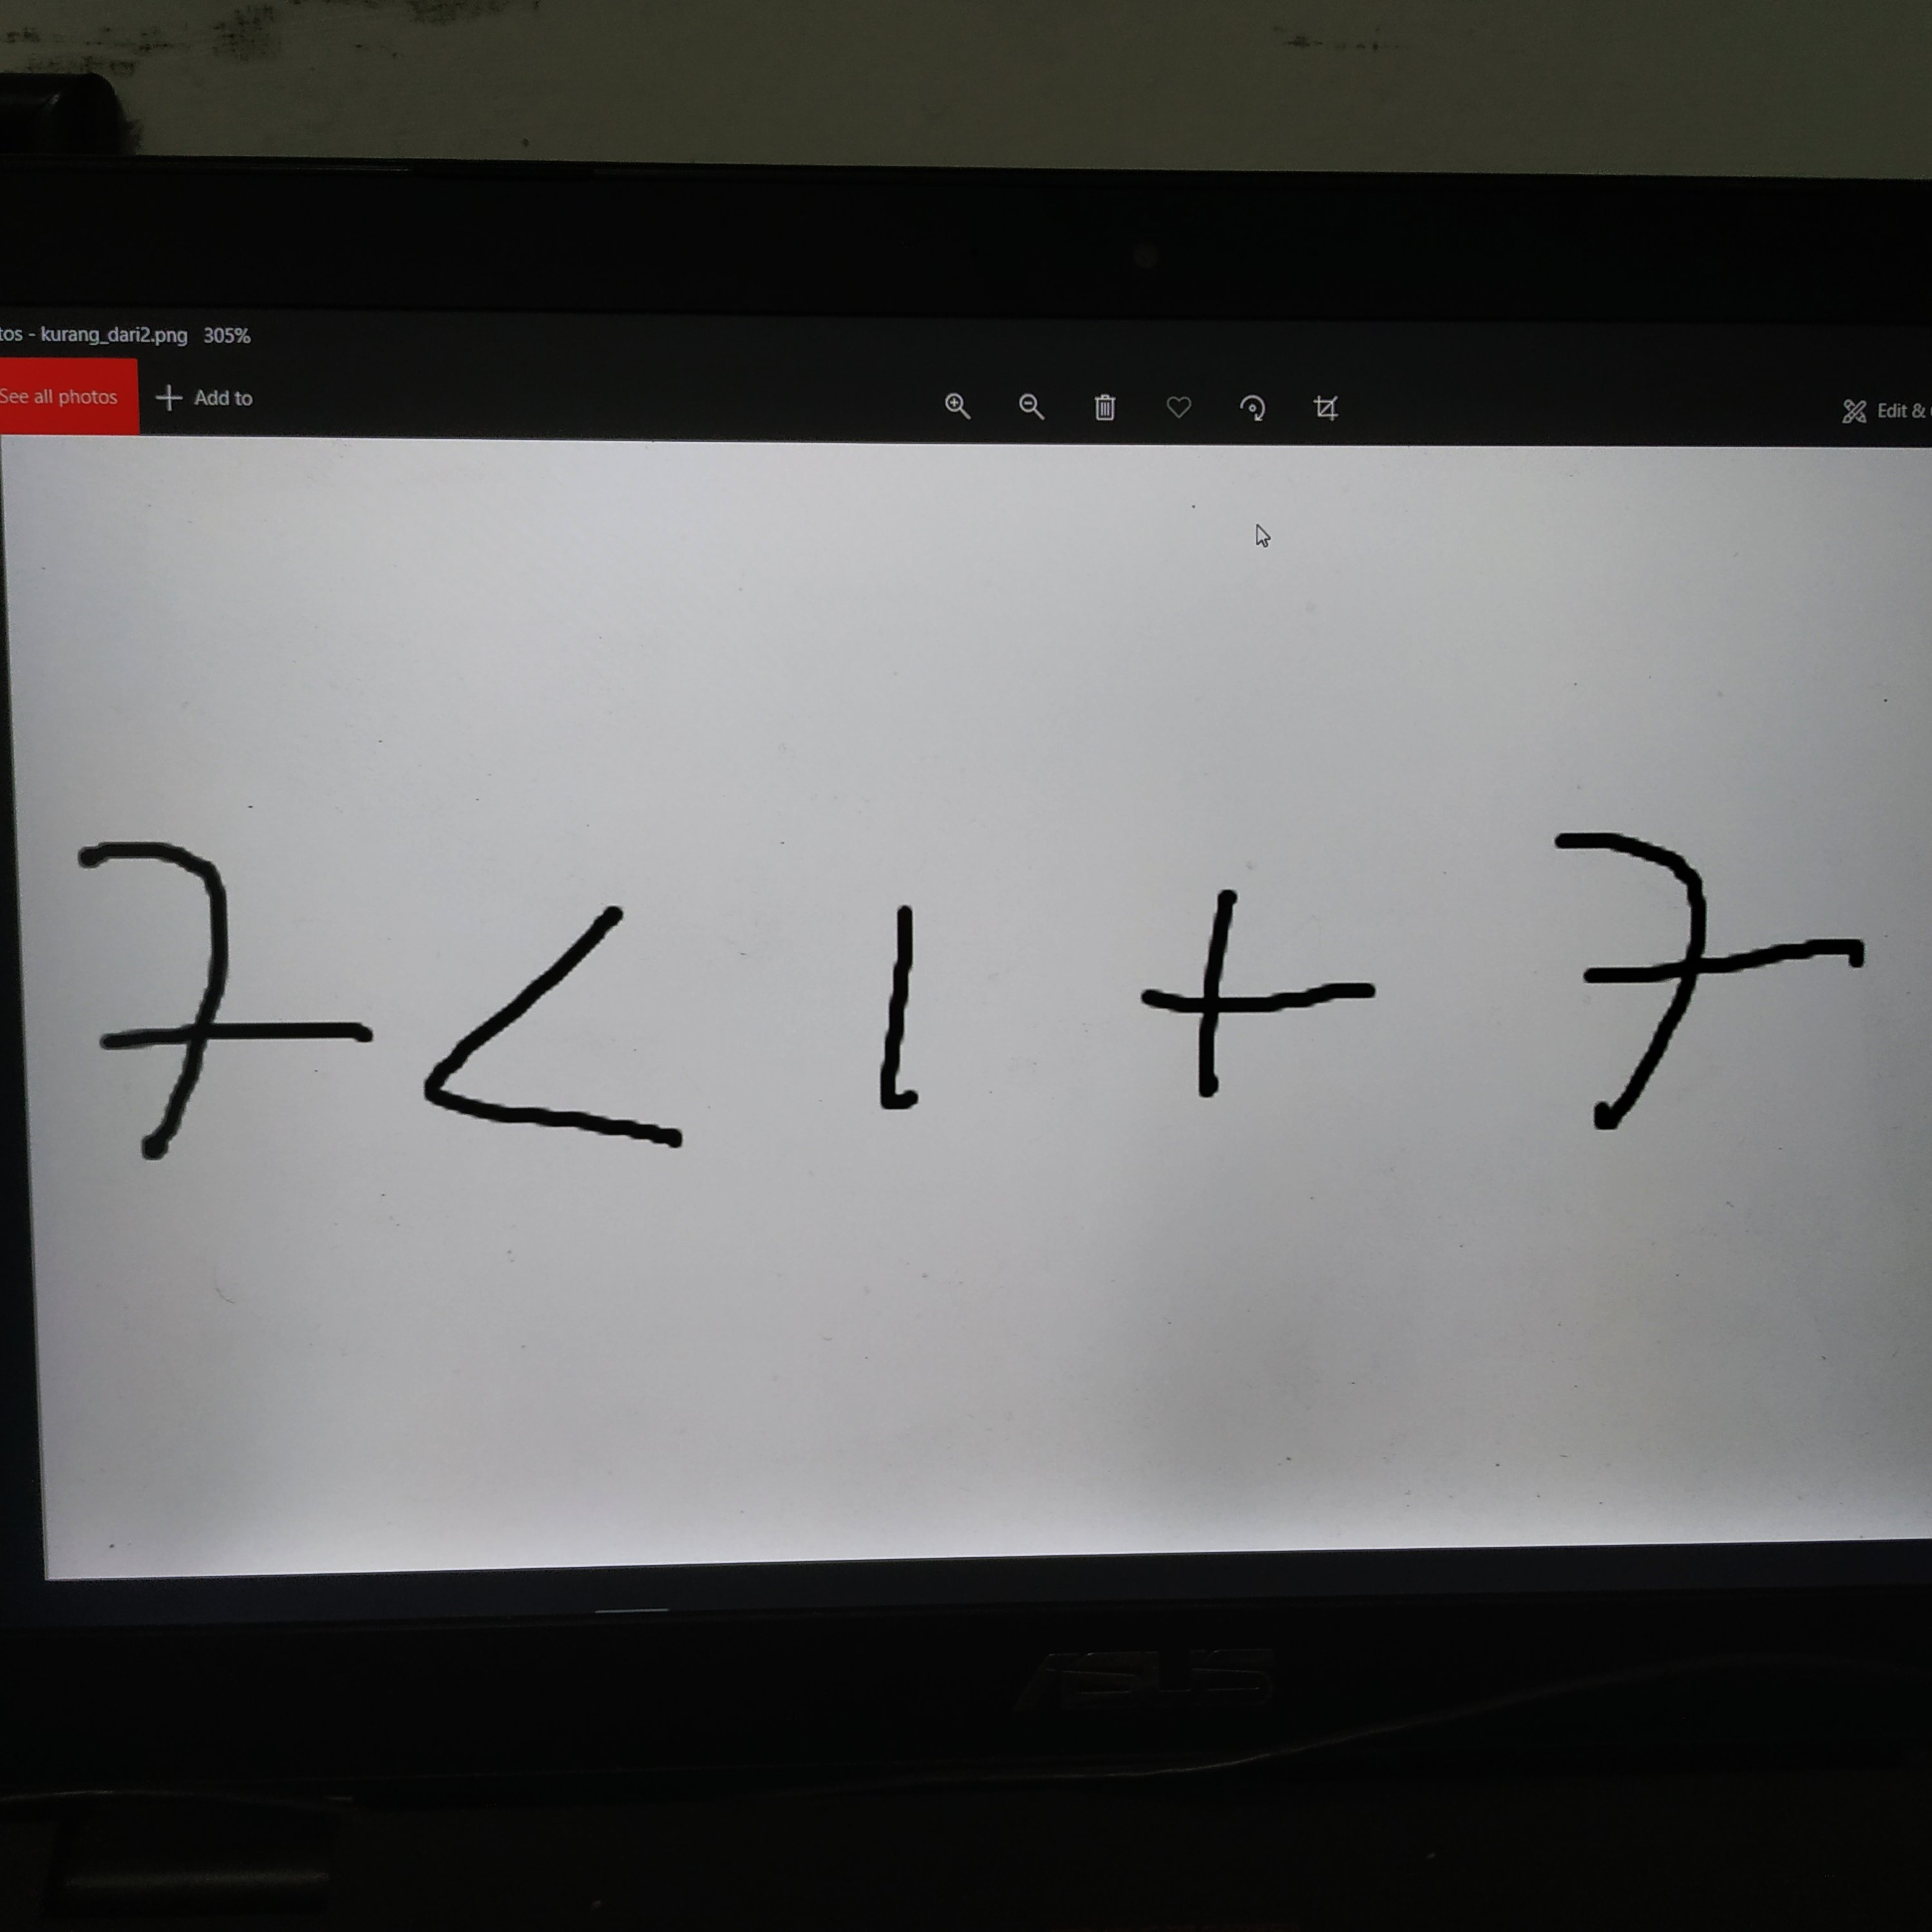lessthan: (418, 891, 713, 1176)
num1: (840, 885, 953, 1128)
num7: (1517, 821, 1884, 1160), (52, 825, 393, 1176)
sum: (1115, 876, 1408, 1100)
